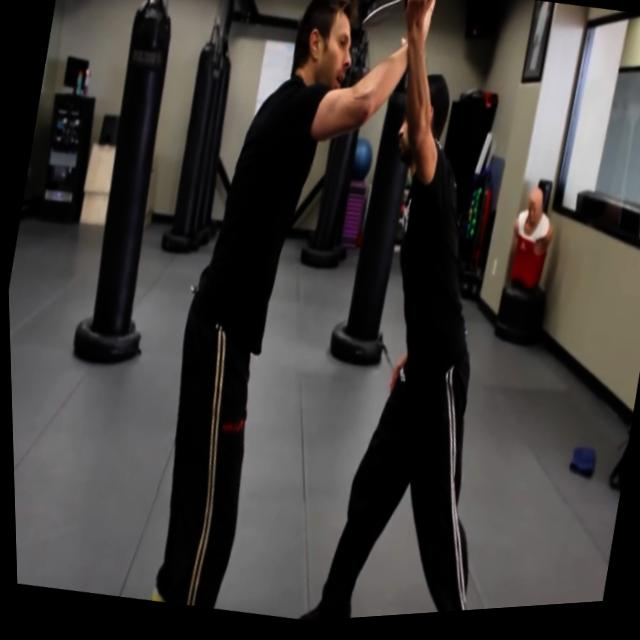knife: (360, 0, 411, 42)
